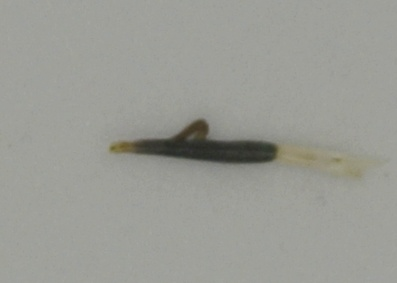เมล็ดงอกแตก: (107, 117, 390, 183)
